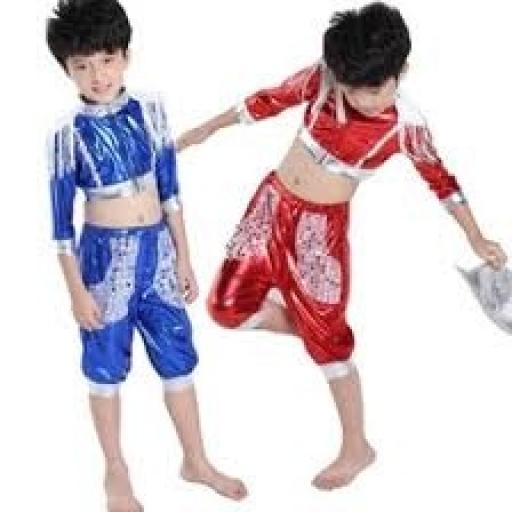dancing: (169, 0, 510, 496), (39, 0, 251, 510)
